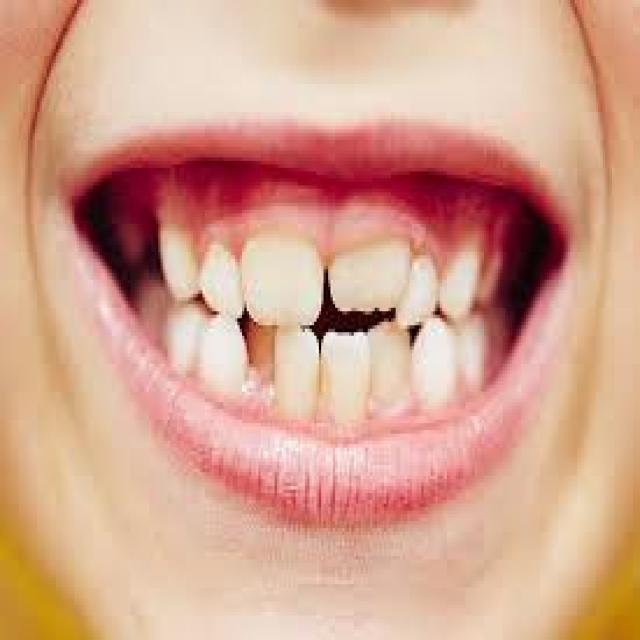tooth: (247, 238, 314, 311), (340, 234, 396, 308), (374, 322, 416, 409), (202, 311, 246, 392), (280, 325, 316, 423), (331, 336, 363, 420), (424, 325, 456, 402), (156, 224, 191, 283), (172, 301, 203, 367), (402, 259, 433, 315), (198, 270, 244, 304), (444, 248, 468, 312), (461, 325, 489, 378)
